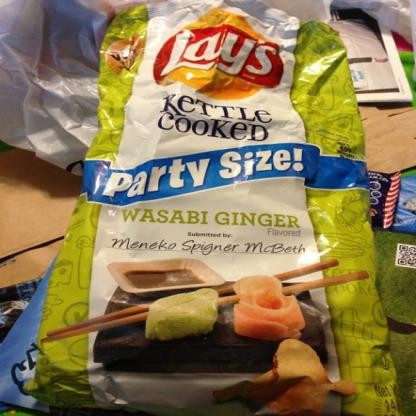potatochip: (14, 0, 405, 415)
